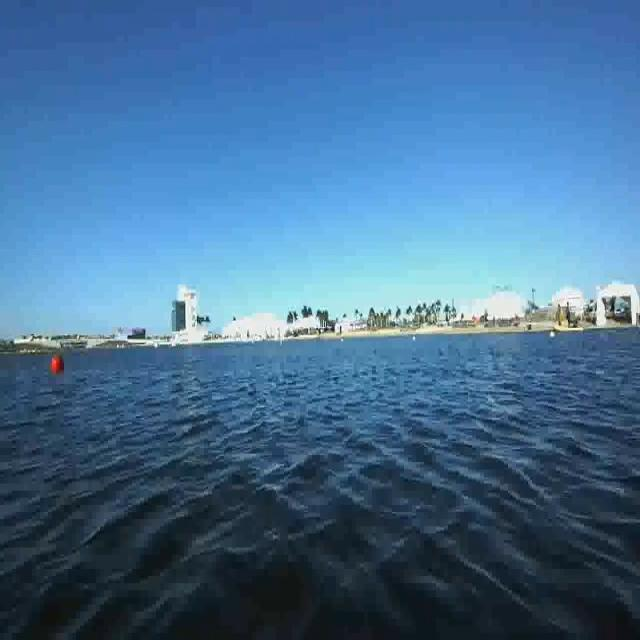red-buoy: (52, 355, 66, 377)
